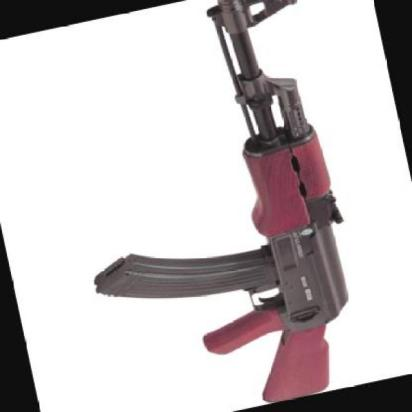Gun: (51, 0, 398, 412)
